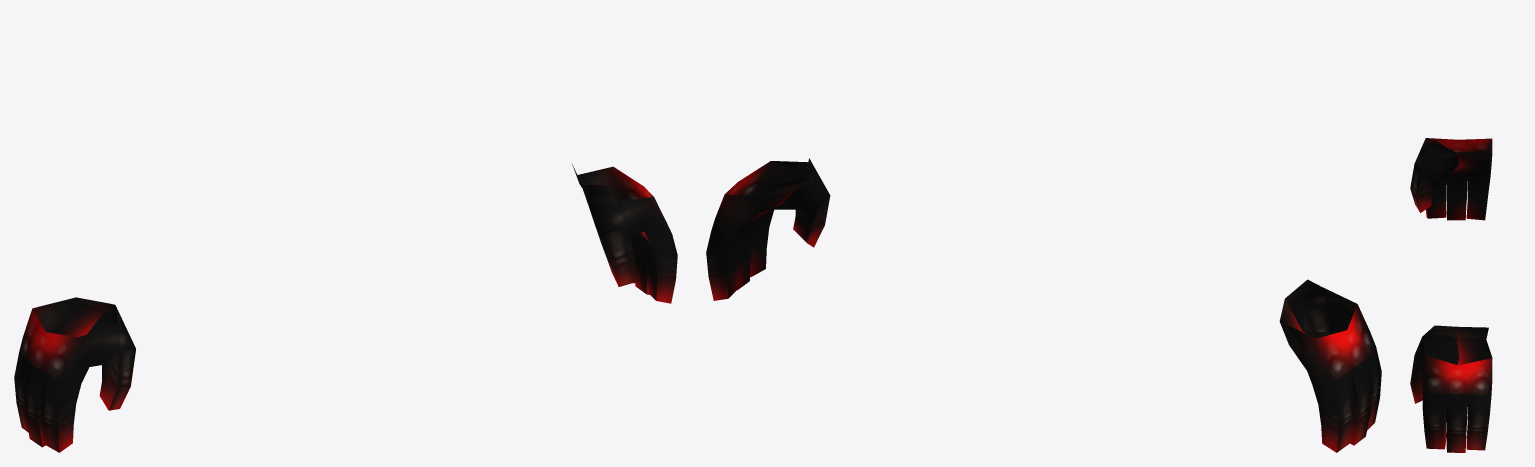
File: hum_hunter_01_ce4c8c3d.glb
The picture shows the model from 3 angles, left to right: view 1: azimuth 30°, elevation 25°; view 2: azimuth 150°, elevation 25°; view 3: azimuth 270°, elevation 25°; orthographic projection. The views are drawn at different scales.
Size of the model in its own units: 1.7 by 0.7268 by 0.3339.
Materials: 1 (1 with a texture image).
